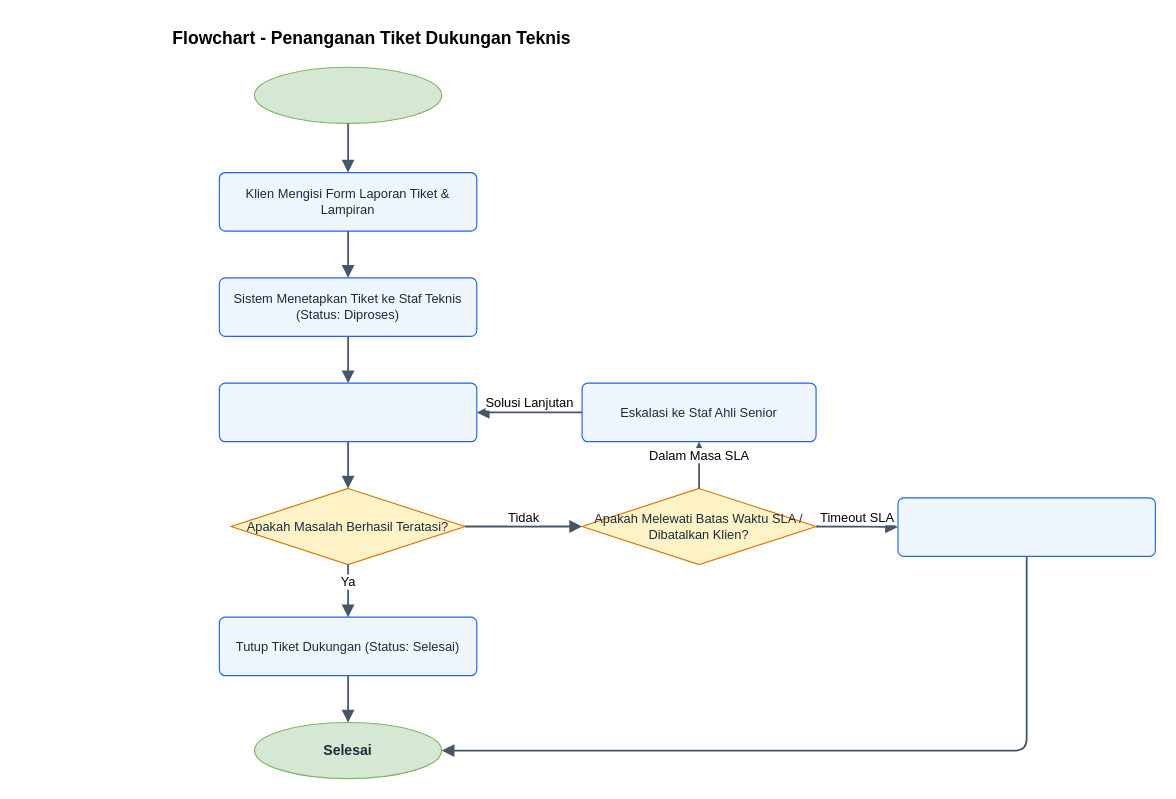
This 1176x799 diagram has some shape labels left out. The shapes that lost their labels are listed below. From the top down, each one's centre as x and y in pixels, then its label:
the point at 347,94: Mulai
the point at 347,412: Diskusi & Troubleshooting via ticket_comments
the point at 1026,526: Tutup Tiket Otomatis (Status: Ditutup/Kedaluwarsa)
